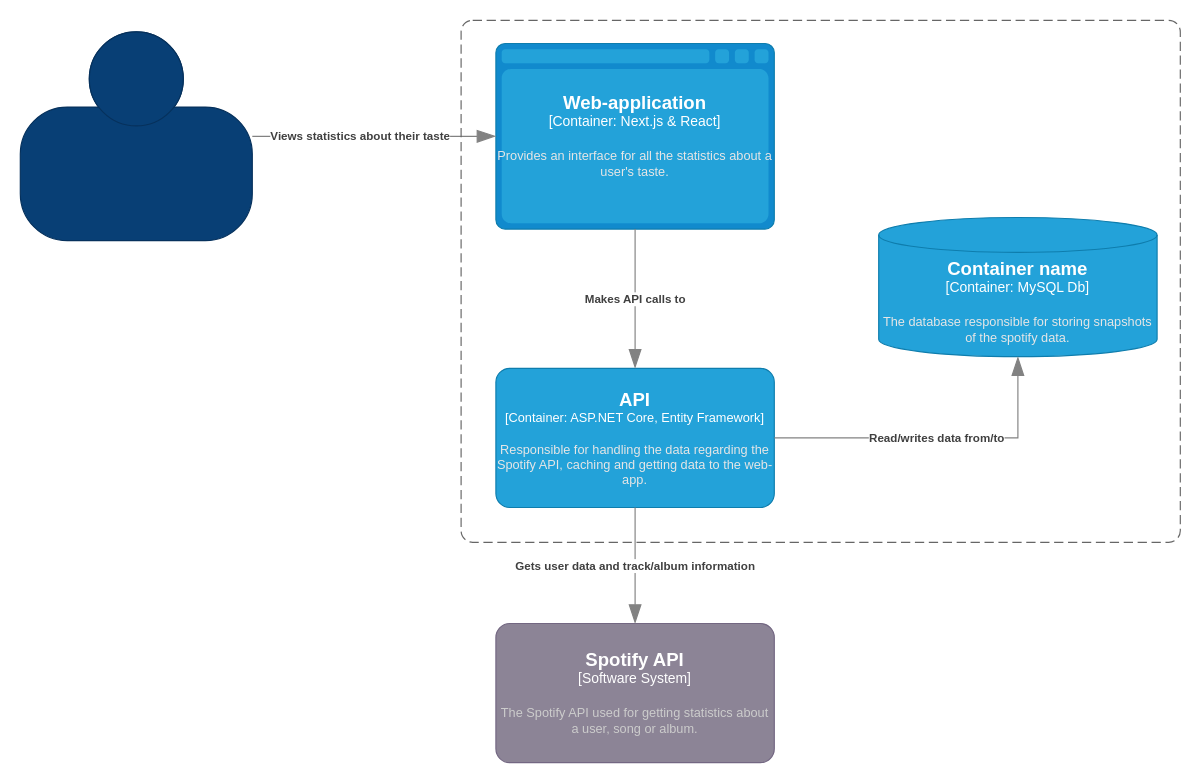
The diagram is 1201 pixels wide and 783 high, and some of its shapes have lost their labels. The box of each missing label's shape, as (x1, y1, x2, y2) in pixels:
Music enjoyer [Person] An average music enjoyer who is using our application.: (19, 31, 252, 241)
Spottedcharts system container [Container]: (460, 19, 1180, 542)
